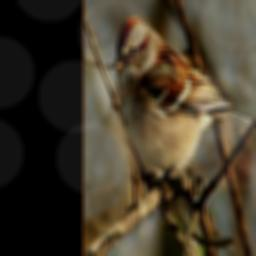Sparrow: (114, 15, 256, 222)
